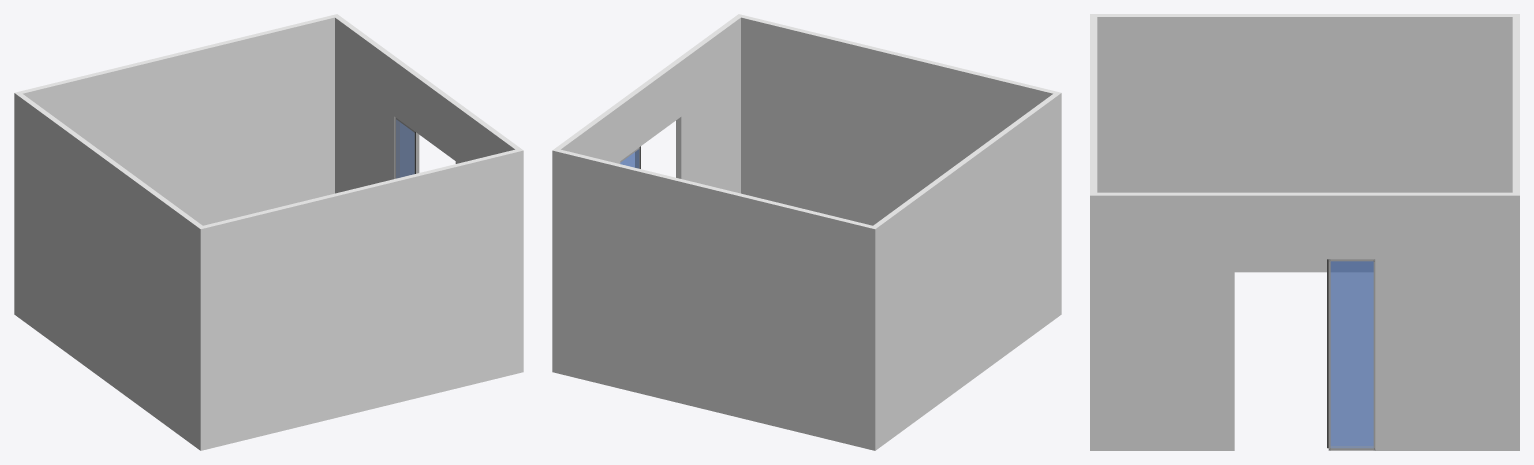
The model's file is stall.obj.
The picture shows the model from 3 angles, left to right: view 1: azimuth 30°, elevation 25°; view 2: azimuth 150°, elevation 25°; view 3: azimuth 270°, elevation 25°; orthographic projection. The views are drawn at different scales.
Visible parts, largest first — view 1: Root_Node, 73293; view 2: Root_Node; view 3: Root_Node, 73293.
Boxes of the visible parts, x1,y1,x2,y2 form: Root_Node: (14,14,523,450); 73293: (395,117,419,178); Root_Node: (552,14,1061,450); Root_Node: (1090,14,1519,450); 73293: (1328,259,1375,450).
Size of the model in its own units: 0.9882 by 0.648 by 0.9882.
